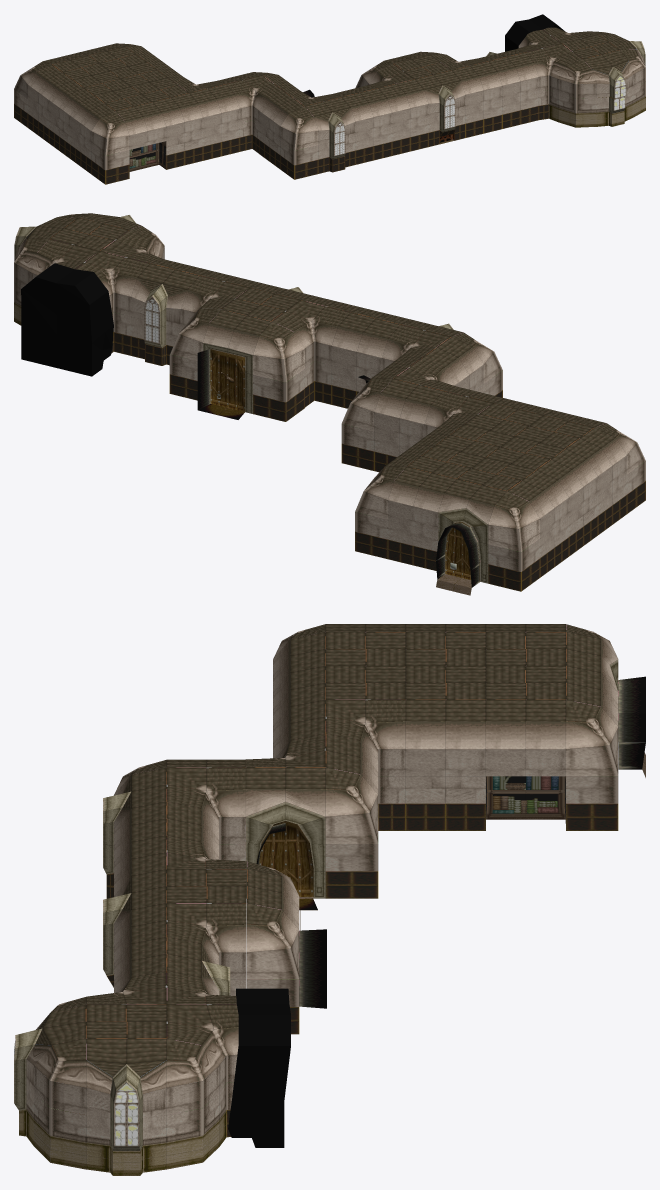
The model's file is hall.glb.
The picture shows the model from 3 angles, top to bottom: view 1: azimuth 30°, elevation 25°; view 2: azimuth 150°, elevation 25°; view 3: azimuth 270°, elevation 25°; orthographic projection. The views are drawn at different scales.
Parts seen in each view (by area): view 1: T1L1M001_227, T1L1M001_189, T1L1M001_195, T1L1M001_118, T1L1M001_191, T1L1M001_120, T1L1M001_193, T1L1M001_199, T1L1M001_122, T1L1M001_197, T1L1M001_201, T1L1M001_124 (+50 smaller); view 2: ENTER_GAME, T1L1M001_33, T1L1M001_144, T1L1M001_170, T1L1M001_34, T1L1M001_106, T1L1M001_162, T1L1M001_164, T1L1M001_142, T1L1M001_31, T1L1M001_172, T1L1M001_98 (+43 smaller); view 3: ENTER_GAME, T1L1M001_126, T1L1M001_205, T1L1M001_90, T1L1M001_63, T1L1M001_91, T1L1M001_104, T1L1M001_206, T1L1M001_33, T1L1M001_160, T1L1M001_168, T1L1M001_144 (+41 smaller).
Boxes of the visible parts, left/top/right/bottom form: T1L1M001_227: left=583, top=50, right=633, bottom=98; T1L1M001_189: left=305, top=97, right=355, bottom=144; T1L1M001_195: left=415, top=70, right=465, bottom=117; T1L1M001_118: left=116, top=102, right=166, bottom=149; T1L1M001_191: left=341, top=88, right=391, bottom=135; T1L1M001_120: left=152, top=93, right=202, bottom=140; T1L1M001_193: left=378, top=79, right=428, bottom=126; T1L1M001_199: left=488, top=52, right=538, bottom=100; T1L1M001_122: left=189, top=84, right=239, bottom=131; T1L1M001_197: left=452, top=61, right=501, bottom=109; T1L1M001_201: left=525, top=43, right=582, bottom=93; T1L1M001_124: left=226, top=75, right=283, bottom=124; ENTER_GAME: left=21, top=263, right=113, bottom=376; T1L1M001_33: left=436, top=479, right=506, bottom=595; T1L1M001_144: left=197, top=309, right=271, bottom=419; T1L1M001_170: left=131, top=263, right=199, bottom=328; T1L1M001_34: left=388, top=466, right=456, bottom=531; T1L1M001_106: left=374, top=378, right=443, bottom=442; T1L1M001_162: left=331, top=312, right=400, bottom=375; T1L1M001_164: left=272, top=300, right=350, bottom=367; T1L1M001_142: left=253, top=321, right=304, bottom=382; T1L1M001_31: left=488, top=491, right=539, bottom=552; T1L1M001_172: left=75, top=251, right=149, bottom=316; T1L1M001_98: left=565, top=427, right=626, bottom=495; ENTER_GAME: left=228, top=988, right=290, bottom=1147; T1L1M001_126: left=245, top=767, right=325, bottom=910; T1L1M001_205: left=86, top=1038, right=166, bottom=1123; T1L1M001_90: left=405, top=699, right=485, bottom=776; T1L1M001_63: left=486, top=699, right=565, bottom=776; T1L1M001_91: left=405, top=776, right=485, bottom=830; T1L1M001_104: left=325, top=699, right=405, bottom=776; T1L1M001_206: left=86, top=1115, right=166, bottom=1175; T1L1M001_33: left=566, top=632, right=645, bottom=777; T1L1M001_160: left=166, top=767, right=245, bottom=844; T1L1M001_168: left=166, top=903, right=246, bottom=979; T1L1M001_144: left=247, top=869, right=326, bottom=1008.
Size of what is drawn, in the model's own units: 54.25 by 6.73 by 31.57.
Materials: 6 (6 with a texture image).
